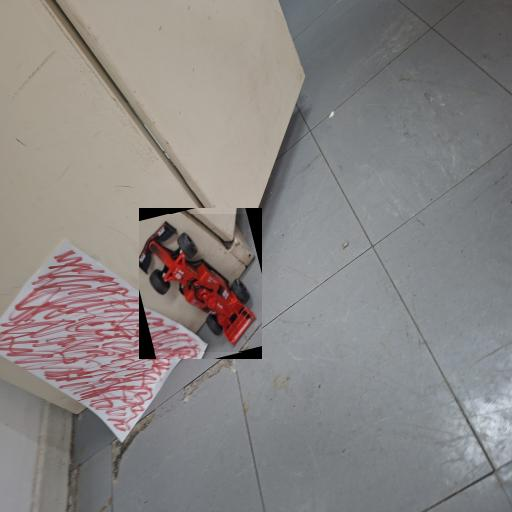carro: (139, 215, 262, 352)
